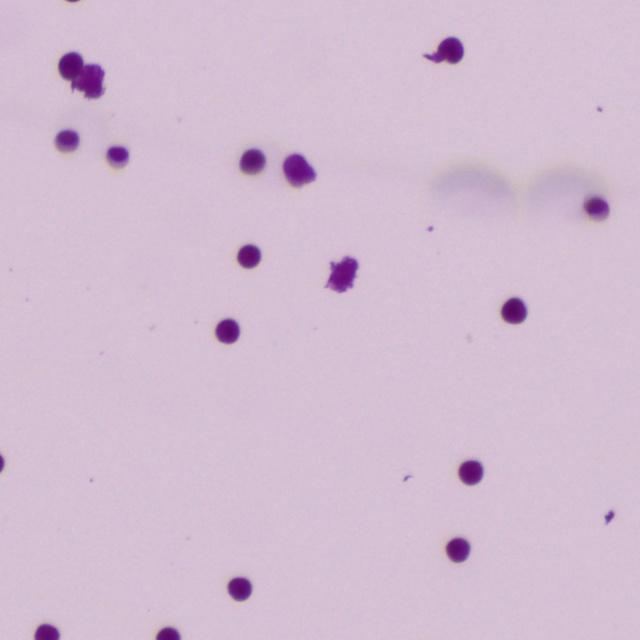viable: (58, 52, 83, 80), (438, 37, 463, 63), (458, 459, 483, 485), (240, 148, 265, 174), (501, 297, 527, 321), (583, 195, 609, 219), (215, 318, 239, 343), (446, 538, 470, 561), (228, 577, 252, 600), (104, 145, 129, 167), (54, 129, 79, 151), (237, 244, 259, 268), (34, 624, 59, 639), (156, 627, 180, 639)
